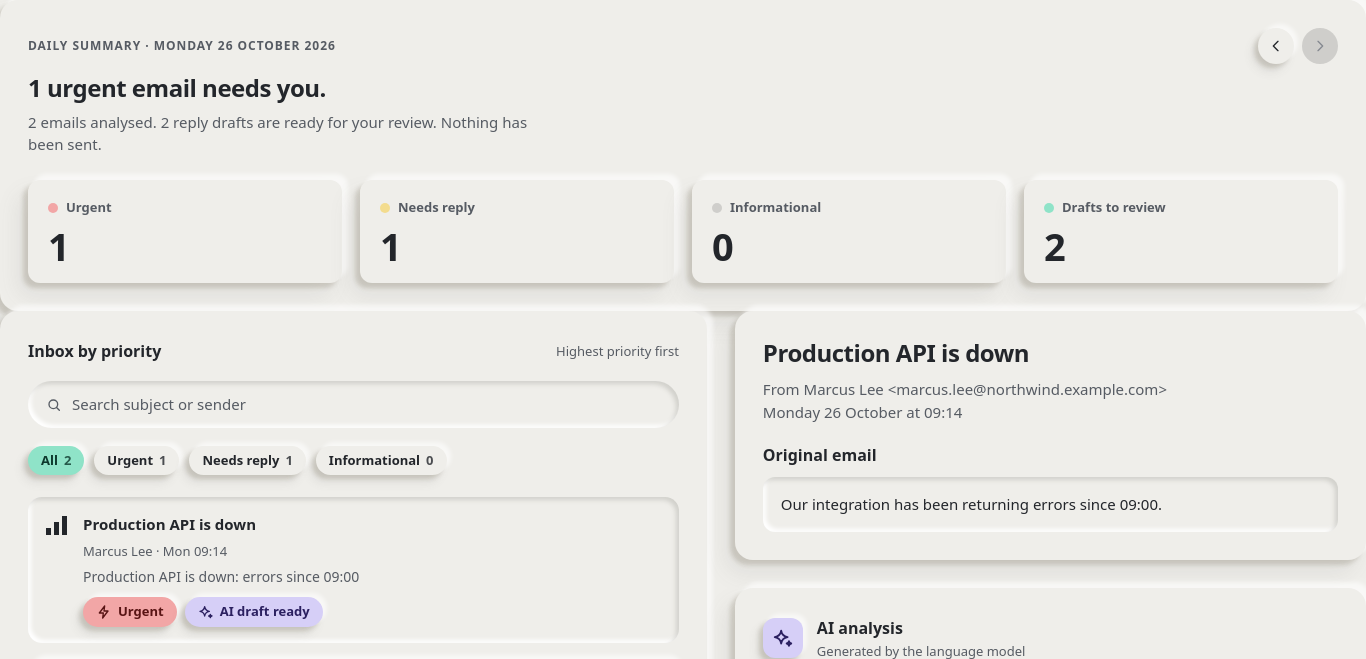
Test case: Overview › moves between the days that have mail
Expected: the text "Daily summary · Monday 26 October 2026" is shown, [28, 38, 336, 54]
Expected: the button named "Next day with mail" is disabled, [1302, 28, 1338, 64]
Click the button named "Previous day with mail". click: (1276, 46)
box: [1258, 28, 1294, 64]
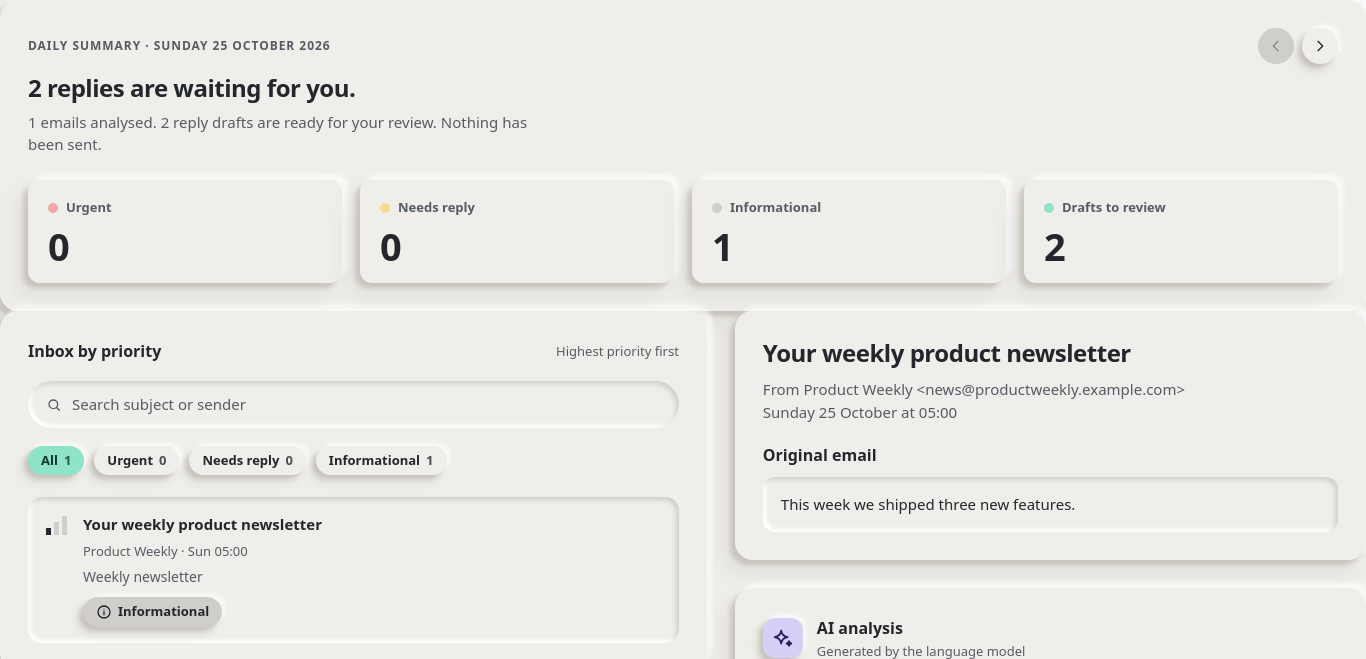
Now the text "Daily summary · Sunday 25 October 2026" is shown, box [28, 38, 331, 54]
Now the button named "Previous day with mail" is disabled, box [1258, 28, 1294, 64]
Click the button named "Next day with mail". click: (1320, 46)
box: [1302, 28, 1338, 64]
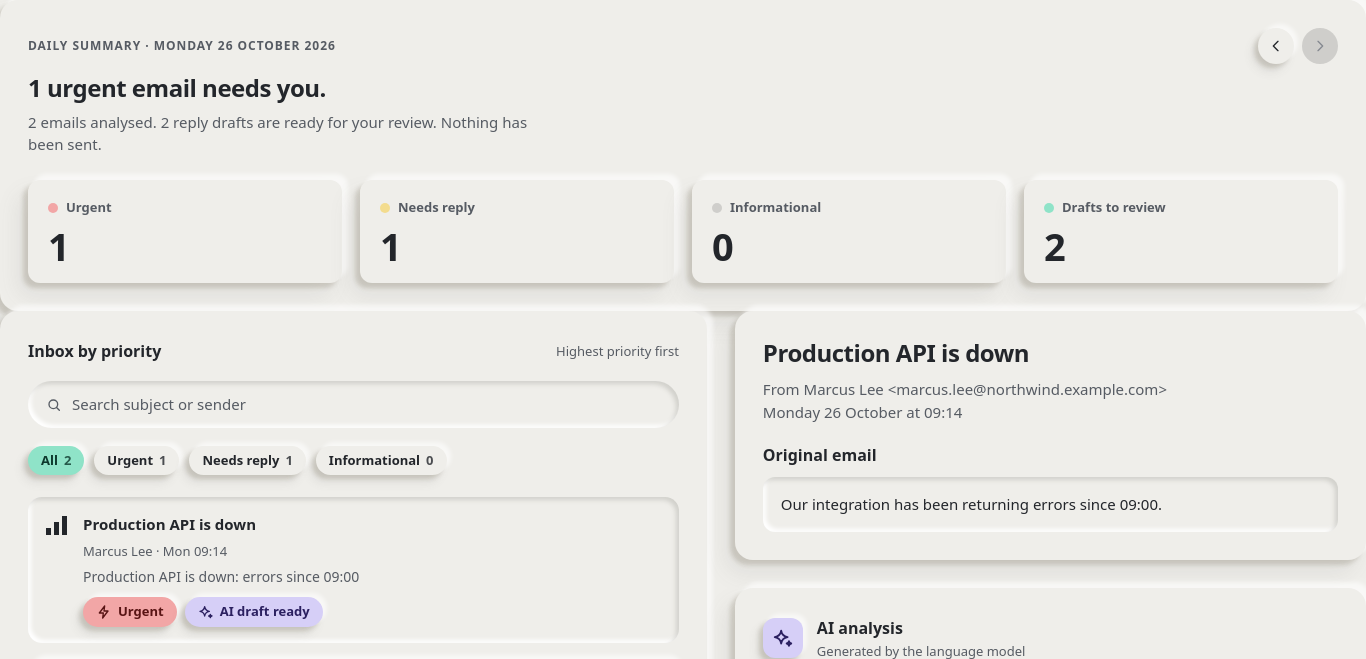
Now the text "Daily summary · Monday 26 October 2026" is shown, box [28, 38, 336, 54]
